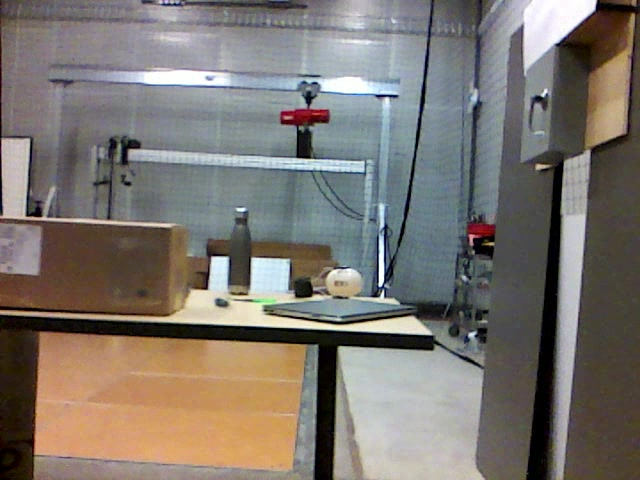box: (1, 216, 188, 316)
